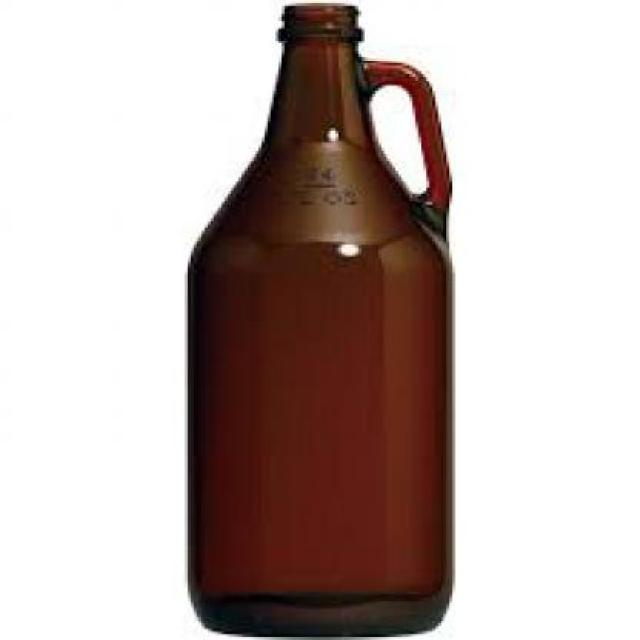GLASS: (184, 2, 456, 632)
